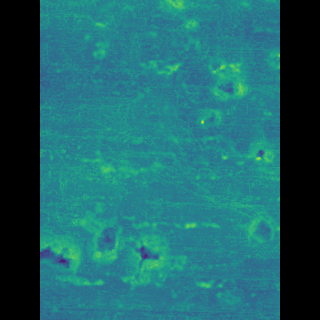Loch: (68, 205, 195, 300), (191, 54, 225, 102), (225, 215, 245, 245), (183, 106, 207, 130), (228, 140, 245, 169), (237, 49, 250, 71)
